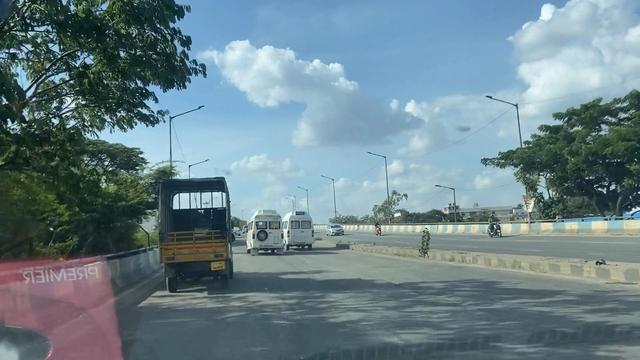HMV: (145, 157, 245, 292), (249, 207, 278, 259), (286, 202, 313, 252)
